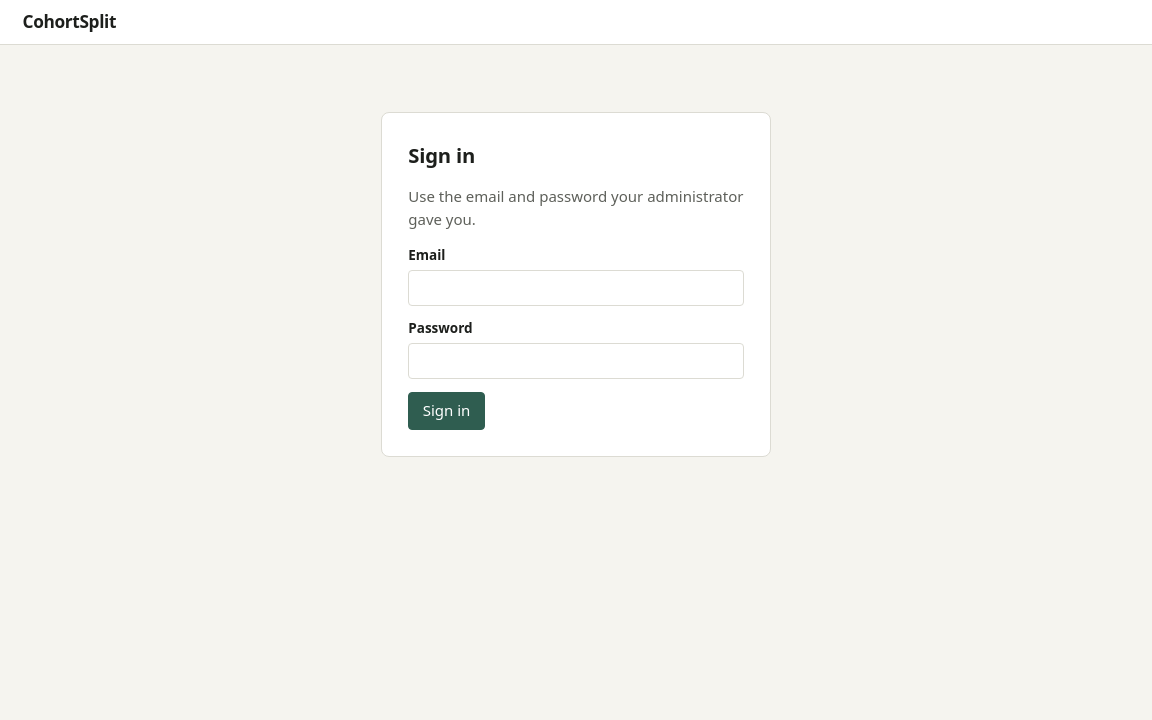
Test: Sign in › shows the lockout message
Type "alice@example.com" into the field labelled "Email" at (576, 288), box [408,270,744,306]
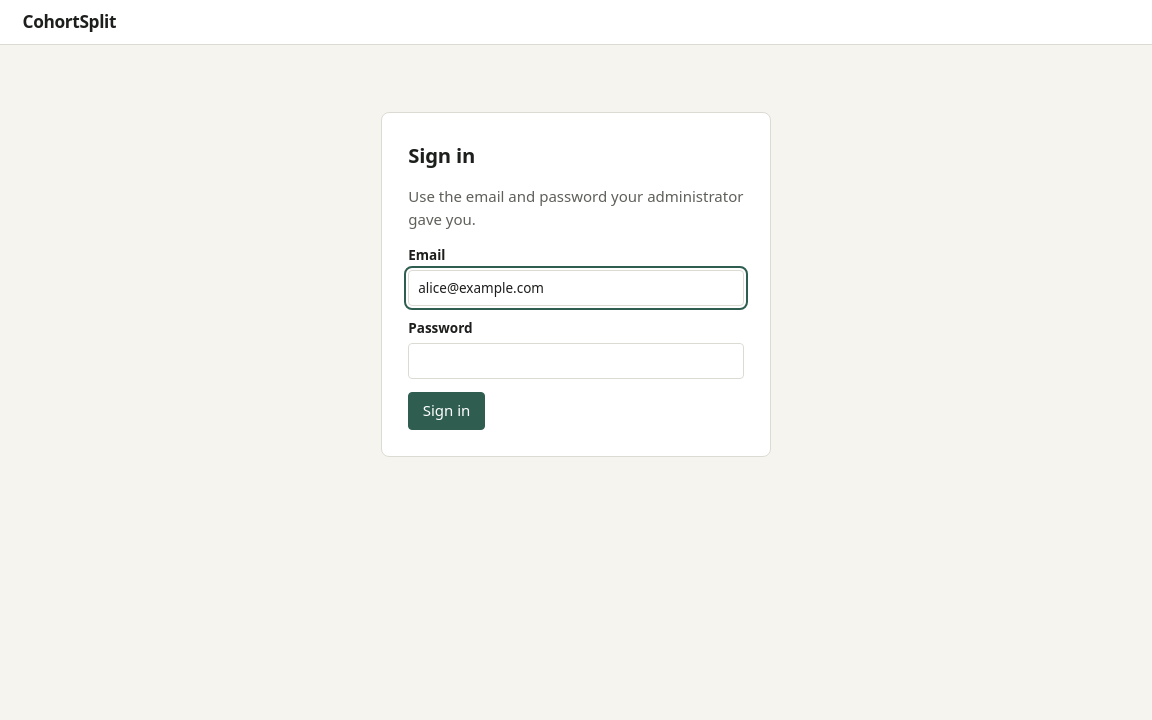
Type "whatever password" into the password field labelled "Password" at (576, 361), box [408,343,744,379]
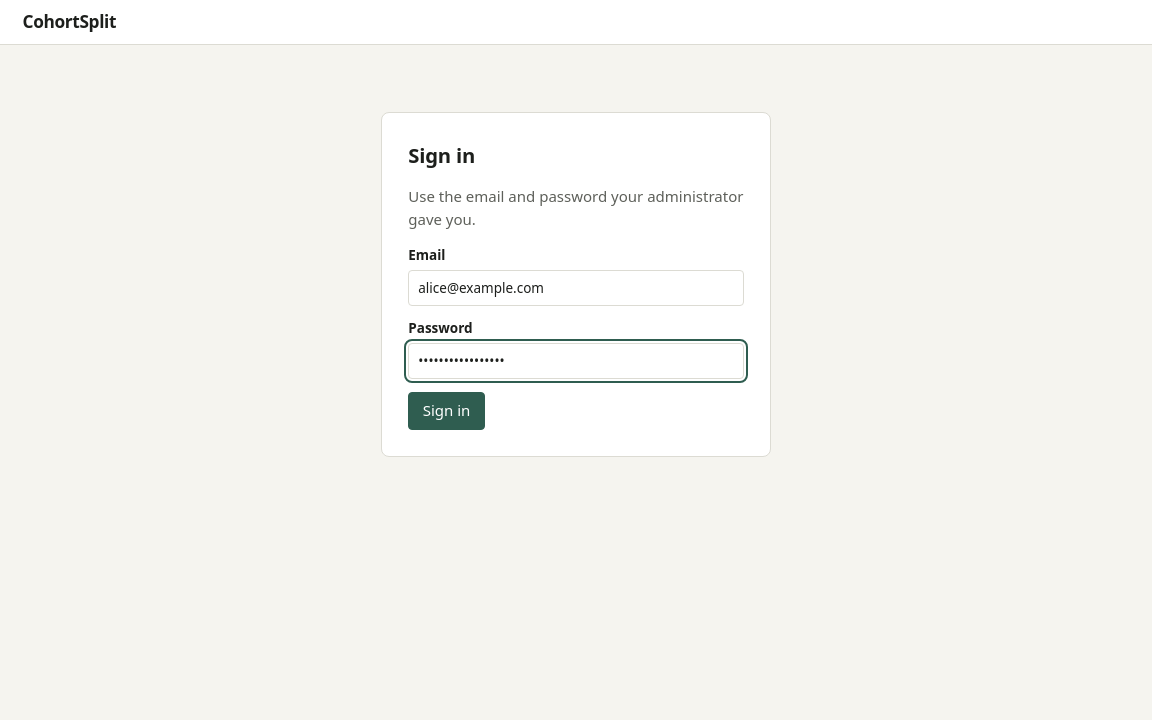
Click the button "Sign in" at (447, 410), box [408,392,485,430]
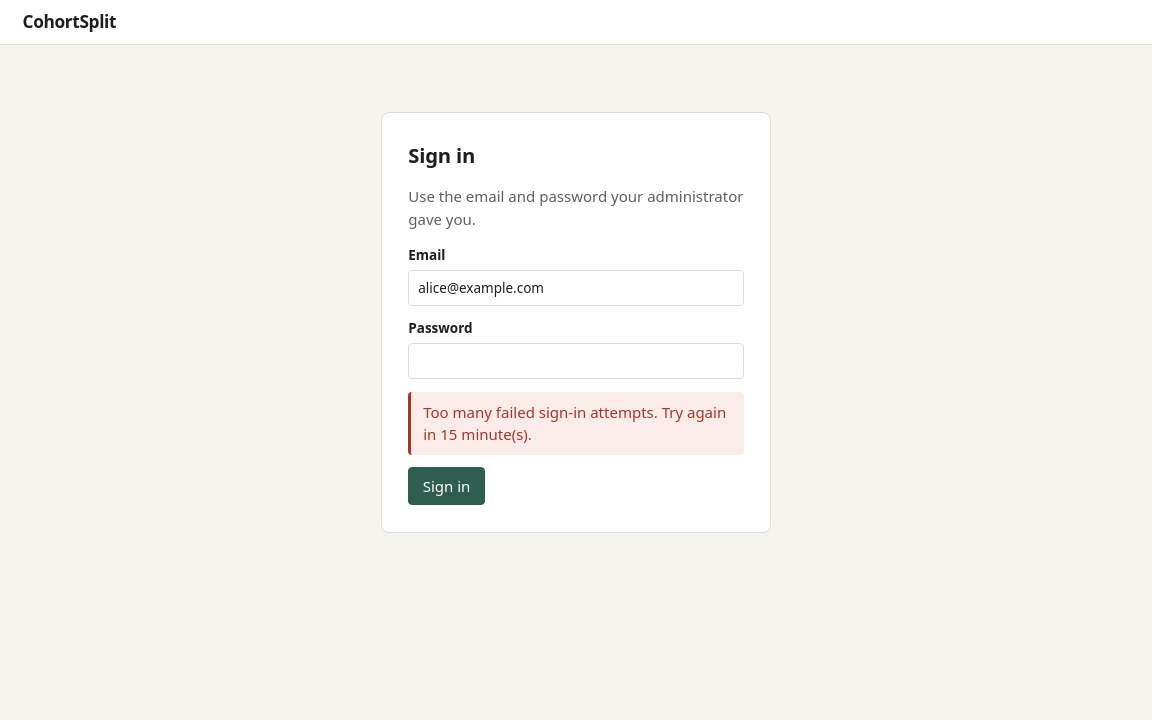
Check: the message shows "Try again in 15 minute(s)", box [423,402,726,444]
